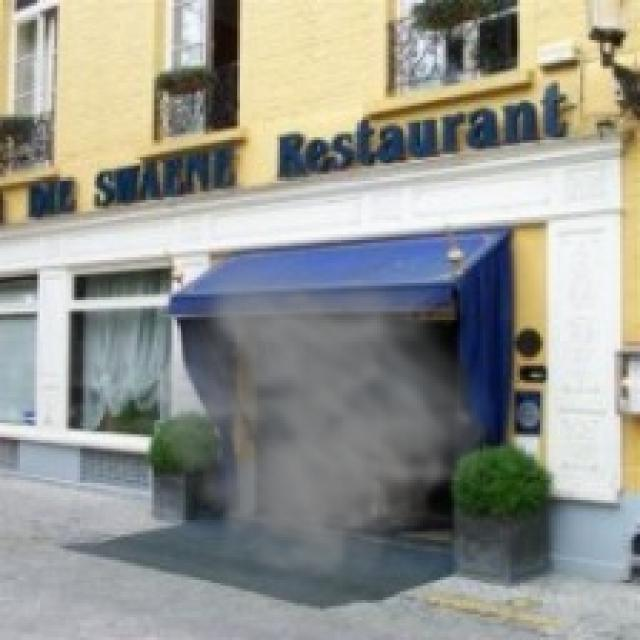Smoke: (120, 252, 506, 617)
